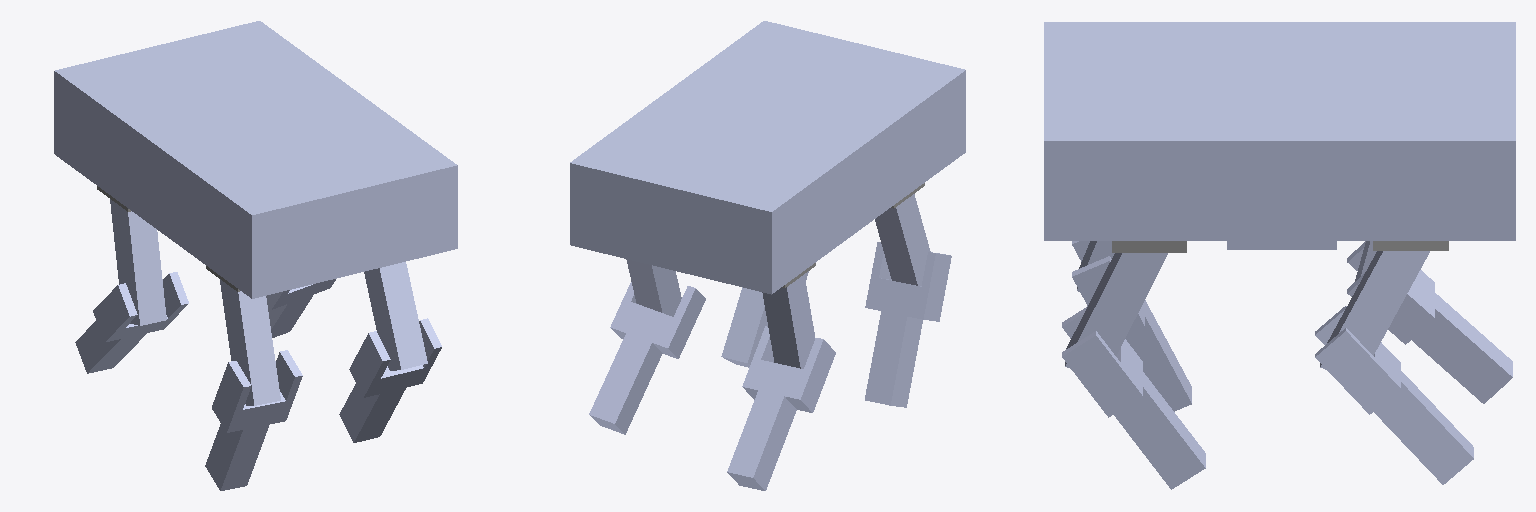
robot.urdf — robodog_urdf_visual:
<?xml version="1.0" encoding="utf-8"?>
<robot name="robodog_urdf_visual">
  <link name="Body">
    <inertial>
      <origin xyz="0.656324638994413 -1.42809506690289 0.974685271162886" rpy="0 0 0" />
      <mass value="2.47443646087766" />
      <inertia ixx="0.0338051194285346" ixy="-9.98080509313333E-08" ixz="-3.26646966906258E-08"
               iyy="0.0188656734512259" iyz="-8.88031110999782E-05" izz="0.0514575753888566" />
    </inertial>
    <visual>
      <origin xyz="0 0 0" rpy="0 0 0" />
      <geometry><mesh filename="meshes/Body.STL" /></geometry>
      <material name=""><color rgba="0.796078431372549 0.823529411764706 0.937254901960784 1" /></material>
    </visual>
    <collision>
      <origin xyz="0 0 0" rpy="0 0 0" />
      <geometry><mesh filename="meshes/Body.STL" /></geometry>
    </collision>
  </link>

  <link name="LFshoulder">
    <inertial>
      <origin xyz="0.00681169722908104 0.00125033685953124 -0.0529994500001849" rpy="0 0 0" />
      <mass value="0.106734606341006" />
      <inertia ixx="5.17890853646485E-05" ixy="2.95186281800034E-06" ixz="-2.76364828743488E-06"
               iyy="3.88830335380834E-05" iyz="-2.55784140201913E-06" izz="4.69737140895314E-05" />
    </inertial>
    <visual>
      <origin xyz="0 0 0" rpy="0 0 0" />
      <geometry><mesh filename="meshes/LFshoulder.STL" /></geometry>
      <material name=""><color rgba="0.627450980392157 0.627450980392157 0.627450980392157 1" /></material>
    </visual>
    <collision>
      <origin xyz="0 0 0" rpy="0 0 0" />
      <geometry><mesh filename="meshes/LFshoulder.STL" /></geometry>
    </collision>
  </link>

  <joint name="LFshoulder1" type="revolute">
    <origin xyz="0.570945900830936 -1.35287827187371 0.934826982453758" rpy="1.5707963267949 0.0196982875803658 0" />
    <parent link="Body" />
    <child link="LFshoulder" />
    <axis xyz="0 0 1" />
    <!-- FIX 1: symmetric limits -->
    <limit lower="-1.57" upper="1.57" effort="100" velocity="2" />
  </joint>

  <link name="LFthigh">
    <inertial>
      <origin xyz="0.0254299226832908 -0.0560253459175278 -0.00159464940336007" rpy="0 0 0" />
      <mass value="0.142585062370825" />
      <inertia ixx="0.00032131875229863" ixy="-2.41938494626875E-06" ixz="-5.00179516698194E-08"
               iyy="3.38957629072241E-05" iyz="-7.67389200474168E-06" izz="0.000316306044817151" />
    </inertial>
    <visual>
      <origin xyz="0 0 0" rpy="0 0 0" />
      <geometry><mesh filename="meshes/LFthigh.STL" /></geometry>
      <material name=""><color rgba="0.792156862745098 0.819607843137255 0.933333333333333 1" /></material>
    </visual>
    <collision>
      <origin xyz="0 0 0" rpy="0 0 0" />
      <geometry><mesh filename="meshes/LFthigh.STL" /></geometry>
    </collision>
  </link>

  <joint name="LFshoulder" type="revolute">
    <origin xyz="-0.0301327356696895 -0.027433002683567 -0.054419879145494" rpy="-0.299813417529854 0 0" />
    <parent link="LFshoulder" />
    <child link="LFthigh" />
    <axis xyz="1 0 0" />
    <!-- FIX 1: symmetric limits -->
    <limit lower="-1.57" upper="1.57" effort="100" velocity="2" />
  </joint>

  <link name="LFcalf">
    <inertial>
      <origin xyz="0.0377851499737359 -0.0771360287758094 1.70801450760649E-09" rpy="0 0 0" />
      <mass value="0.220129873044525" />
      <inertia ixx="0.000500333417247401" ixy="-2.71815321277086E-06" ixz="-3.59989002583078E-21"
               iyy="5.59989224180159E-05" iyz="9.84252284709497E-19" izz="0.000499436637090327" />
    </inertial>
    <visual>
      <origin xyz="0 0 0" rpy="0 0 0" />
      <geometry><mesh filename="meshes/LFcalf.STL" /></geometry>
      <material name=""><color rgba="0.792156862745098 0.819607843137255 0.933333333333333 1" /></material>
    </visual>
    <collision>
      <origin xyz="0 0 0" rpy="0 0 0" />
      <geometry><mesh filename="meshes/LFcalf.STL" /></geometry>
    </collision>
  </link>

  <joint name="LFknee" type="revolute">
    <origin xyz="-0.00980170853731022 -0.134770482280563 -0.00414664095535988"
            rpy="1.09162844050236 -0.0122810329987683 0.0063804086168105" />
    <parent link="LFthigh" />
    <child link="LFcalf" />
    <axis xyz="0.999904235859026 -0.0138390430007545 0" />
    <!-- FIX 1: symmetric limits -->
    <limit lower="0" upper="1.57" effort="100" velocity="2" />
  </joint>

  <!-- ==================== LR LEG ==================== -->

  <link name="LRshoulder">
    <inertial>
      <origin xyz="0.00697922831782827 0.00120544876893769 -0.0530044716500169" rpy="0 0 0" />
      <mass value="0.107113260088673" />
      <inertia ixx="5.18183845782671E-05" ixy="2.90746990008399E-06" ixz="-2.76364856021151E-06"
               iyy="3.90281777796418E-05" iyz="-2.5578413861735E-06" izz="4.71229135190175E-05" />
    </inertial>
    <visual>
      <origin xyz="0 0 0" rpy="0 0 0" />
      <geometry><mesh filename="meshes/LRshoulder.STL" /></geometry>
      <material name=""><color rgba="0.627450980392157 0.627450980392157 0.627450980392157 1" /></material>
    </visual>
    <collision>
      <origin xyz="0 0 0" rpy="0 0 0" />
      <geometry><mesh filename="meshes/LRshoulder.STL" /></geometry>
    </collision>
  </link>

  <joint name="LRshoulder1" type="revolute">
    <origin xyz="0.570945900830937 -1.60267827187371 0.935026982453744" rpy="1.5707963267949 0.0400174430414714 0" />
    <parent link="Body" />
    <child link="LRshoulder" />
    <axis xyz="0 0 1" />
    <!-- FIX 1: symmetric limits -->
    <limit lower="-1.57" upper="1.57" effort="100" velocity="2" />
  </joint>

  <link name="LRthigh">
    <inertial>
      <origin xyz="0.025448577797899 -0.0560272165605814 0.00117650081112397" rpy="0 0 0" />
      <mass value="0.142585062512309" />
      <inertia ixx="0.000321320133122269" ixy="-2.30677332961993E-06" ixz="1.52827116373056E-08"
               iyy="3.39181273948411E-05" iyz="8.1075016562492E-06" izz="0.000316282299953722" />
    </inertial>
    <visual>
      <origin xyz="0 0 0" rpy="0 0 0" />
      <geometry><mesh filename="meshes/LRthigh.STL" /></geometry>
      <material name=""><color rgba="0.792156862745098 0.819607843137255 0.933333333333333 1" /></material>
    </visual>
    <collision>
      <origin xyz="0 0 0" rpy="0 0 0" />
      <geometry><mesh filename="meshes/LRthigh.STL" /></geometry>
    </collision>
  </link>

  <joint name="LRshoulder" type="revolute">
    <origin xyz="-0.0301327356696457 -0.0274330026834846 -0.0544198791454946"
            rpy="-0.35188052704573 -0.012952543057539 0.00475550062410753" />
    <parent link="LRshoulder" />
    <child link="LRthigh" />
    <axis xyz="0.999904810563637 0 -0.0137974567111755" />
    <!-- FIX 1: symmetric limits -->
    <limit lower="-1.57" upper="1.57" effort="100" velocity="2" />
  </joint>

  <link name="LRcalf">
    <inertial>
      <origin xyz="0.0360577557209741 -0.0779584626053882 4.08413969310573E-10" rpy="0 0 0" />
      <mass value="0.220129873044525" />
      <inertia ixx="0.000499991946951532" ixy="-1.26094720880383E-05" ixz="3.19754937588498E-20"
               iyy="5.63403927138841E-05" iyz="2.23616698075135E-19" izz="0.000499436637090327" />
    </inertial>
    <visual>
      <origin xyz="0 0 0" rpy="0 0 0" />
      <geometry><mesh filename="meshes/LRcalf.STL" /></geometry>
      <material name=""><color rgba="0.792156862745098 0.819607843137255 0.933333333333333 1" /></material>
    </visual>
    <collision>
      <origin xyz="0 0 0" rpy="0 0 0" />
      <geometry><mesh filename="meshes/LRcalf.STL" /></geometry>
    </collision>
  </link>

  <joint name="LRknee" type="revolute">
    <origin xyz="-0.00975435685953308 -0.134792281203354 0.003499209275174"
            rpy="0.797443610135705 -0.0120453146509253 0.0252265315134874" />
    <parent link="LRthigh" />
    <child link="LRcalf" />
    <axis xyz="0.999347964148459 -0.0361060459248811 0" />
    <!-- FIX 1: symmetric limits -->
    <limit lower="0" upper="1.57" effort="100" velocity="2" />
  </joint>

  <!-- ==================== RF LEG ==================== -->

  <link name="RFshoulder">
    <inertial>
      <origin xyz="-0.0069792232149215 0.00120545927671156 -0.0530044835151915" rpy="0 0 0" />
      <mass value="0.107113316590436" />
      <inertia ixx="5.18183962454629E-05" ixy="-2.90747124297496E-06" ixz="2.76365354538931E-06"
               iyy="3.90281899527752E-05" iyz="-2.5578377303906E-06" izz="4.71229170668772E-05" />
    </inertial>
    <visual>
      <origin xyz="0 0 0" rpy="0 0 0" />
      <geometry><mesh filename="meshes/RFshoulder.STL" /></geometry>
      <material name=""><color rgba="0.627450980392157 0.627450980392157 0.627450980392157 1" /></material>
    </visual>
    <collision>
      <origin xyz="0 0 0" rpy="0 0 0" />
      <geometry><mesh filename="meshes/RFshoulder.STL" /></geometry>
    </collision>
  </link>

  <joint name="RFshoulder1" type="revolute">
    <origin xyz="0.741284184425223 -1.35287827187371 0.935826981513804" rpy="1.5707963267949 -0.116458893368777 0" />
    <parent link="Body" />
    <child link="RFshoulder" />
    <axis xyz="0 0 1" />
    <!-- FIX 1: symmetric limits -->
    <limit lower="-1.57" upper="1.57" effort="100" velocity="2" />
  </joint>

  <link name="RFthigh">
    <inertial>
      <origin xyz="-0.0254299225488506 -0.0560253487071269 -0.00159464974084234" rpy="0 0 0" />
      <mass value="0.14258506807021" />
      <inertia ixx="0.000321318786317582" ixy="2.41938856259475E-06" ixz="5.0018727702744E-08"
               iyy="3.38957611151945E-05" iyz="-7.67389491245136E-06" izz="0.000316306080101547" />
    </inertial>
    <visual>
      <origin xyz="0 0 0" rpy="0 0 0" />
      <geometry><mesh filename="meshes/RFthigh.STL" /></geometry>
      <material name=""><color rgba="0.792156862745098 0.819607843137255 0.933333333333333 1" /></material>
    </visual>
    <collision>
      <origin xyz="0 0 0" rpy="0 0 0" />
      <geometry><mesh filename="meshes/RFthigh.STL" /></geometry>
    </collision>
  </link>

  <joint name="RFshoulder" type="revolute">
    <origin xyz="0.0301327362857767 -0.0274330018035406 -0.0544198791458379" rpy="-0.532538206681912 0 0" />
    <parent link="RFshoulder" />
    <child link="RFthigh" />
    <!-- FIX 3: axis matches LF/LR (was -1 0 0) -->
    <axis xyz="1 0 0" />
    <!-- FIX 1: symmetric limits -->
    <limit lower="-1.57" upper="1.57" effort="100" velocity="2" />
  </joint>

  <link name="RFcalf">
    <inertial>
      <origin xyz="0.0456389236696949 -0.072926852139616 5.40545386229496E-12" rpy="0 0 0" />
      <mass value="0.220129873044526" />
      <inertia ixx="0.000497582548247098" ixy="3.4958933968641E-05" ixz="3.72694496791892E-20"
               iyy="5.87497914183215E-05" iyz="-2.35475159336695E-19" izz="0.00049943663709033" />
    </inertial>
    <visual>
      <origin xyz="0 0 0" rpy="0 0 0" />
      <geometry><mesh filename="meshes/RFcalf.STL" /></geometry>
      <material name=""><color rgba="0.792156862745098 0.819607843137255 0.933333333333333 1" /></material>
    </visual>
    <collision>
      <origin xyz="0 0 0" rpy="0 0 0" />
      <geometry><mesh filename="meshes/RFcalf.STL" /></geometry>
    </collision>
  </link>

  <joint name="RFknee" type="revolute">
    <origin xyz="-0.0688982914538071 -0.135741088974873 -0.00470154873322026"
            rpy="1.2644864677079 0.0827040505719773 -0.0261205230150006" />
    <parent link="RFthigh" />
    <child link="RFcalf" />
    <axis xyz="0.996242013440497 0.0866132244869372 0" />
    <!-- FIX 1: symmetric limits -->
    <limit lower="0" upper="1.57" effort="100" velocity="2" />
  </joint>

  <!-- ==================== RR LEG ==================== -->

  <link name="RRshoulder">
    <inertial>
      <origin xyz="-0.00697921190467143 0.00120482955155443 -0.0530044835509087" rpy="0 0 0" />
      <mass value="0.107113316314874" />
      <inertia ixx="5.18183961988968E-05" ixy="-2.9074713425353E-06" ixz="2.76365331101969E-06"
               iyy="3.90281896411856E-05" iyz="-2.55783770855946E-06" izz="4.71229166596488E-05" />
    </inertial>
    <visual>
      <origin xyz="0 0 0" rpy="0 0 0" />
      <geometry><mesh filename="meshes/RRshoulder.STL" /></geometry>
      <material name=""><color rgba="0.627450980392157 0.627450980392157 0.627450980392157 1" /></material>
    </visual>
    <collision>
      <origin xyz="0 0 0" rpy="0 0 0" />
      <geometry><mesh filename="meshes/RRshoulder.STL" /></geometry>
    </collision>
  </link>

  <joint name="RRshoulder1" type="revolute">
    <origin xyz="0.741284184940541 -1.60267827187374 0.935826982453767" rpy="1.5707963267949 -0.0019797424334105 0" />
    <parent link="Body" />
    <child link="RRshoulder" />
    <axis xyz="0 0 1" />
    <!-- FIX 1: symmetric limits -->
    <limit lower="-1.57" upper="1.57" effort="100" velocity="2" />
  </joint>

  <link name="RRthigh">
    <inertial>
      <origin xyz="-0.0254299227848083 -0.0560253474323369 -0.0015946498201842" rpy="0 0 0" />
      <mass value="0.142585067571199" />
      <inertia ixx="0.000321318785253325" ixy="2.41938748456796E-06" ixz="5.00187418284509E-08"
               iyy="3.38957605966384E-05" iyz="-7.67389502238405E-06" izz="0.000316306078517343" />
    </inertial>
    <visual>
      <origin xyz="0 0 0" rpy="0 0 0" />
      <geometry><mesh filename="meshes/RRthigh.STL" /></geometry>
      <material name=""><color rgba="0.792156862745098 0.819607843137255 0.933333333333333 1" /></material>
    </visual>
    <collision>
      <origin xyz="0 0 0" rpy="0 0 0" />
      <geometry><mesh filename="meshes/RRthigh.STL" /></geometry>
    </collision>
  </link>

  <joint name="RRshoulder" type="revolute">
    <origin xyz="0.0301327477149707 -0.0274336317901348 -0.0544198793939654" rpy="-0.487004042275192 0 0" />
    <parent link="RRshoulder" />
    <child link="RRthigh" />
    <!-- FIX 3: axis matches LF/LR (was -1 0 0) -->
    <axis xyz="1 0 0" />
    <!-- FIX 1: symmetric limits -->
    <limit lower="-1.57" upper="1.57" effort="100" velocity="2" />
  </joint>

  <link name="RRcalf">
    <inertial>
      <origin xyz="0.0392753470832037 -0.076542042229081 1.01296748766799E-12" rpy="0 0 0" />
      <mass value="0.220129873044525" />
      <inertia ixx="0.000500333518865319" ixy="-2.70983477952626E-06" ixz="-1.20172799391704E-20"
               iyy="5.59988208000997E-05" iyz="6.43745039913268E-20" izz="0.000499436637090329" />
    </inertial>
    <visual>
      <origin xyz="0 0 0" rpy="0 0 0" />
      <geometry><mesh filename="meshes/RRcalf.STL" /></geometry>
      <material name=""><color rgba="0.792156862745098 0.819607843137255 0.933333333333333 1" /></material>
    </visual>
    <collision>
      <origin xyz="0 0 0" rpy="0 0 0" />
      <geometry><mesh filename="meshes/RRcalf.STL" /></geometry>
    </collision>
  </link>

  <joint name="RRknee" type="revolute">
    <origin xyz="-0.0688982915173117 -0.135741089101065 -0.00470154847425786"
            rpy="1.09576138654391 0.00144427473534236 -0.000742813636079913" />
    <parent link="RRthigh" />
    <child link="RRcalf" />
    <!-- FIX 2: axis matches others (was -0.999998681 -0.00162 0) -->
    <axis xyz="0.999998681146719 0.00162410123492629 0" />
    <!-- FIX 1: symmetric limits -->
    <limit lower="0" upper="1.57" effort="100" velocity="2" />
  </joint>

  <!-- Dummy foot links -->
  <link name="LFfoot"/>
  <link name="LRfoot"/>
  <link name="RFfoot"/>
  <link name="RRfoot"/>

  <joint name="LFankle" type="fixed">
    <parent link="LFcalf"/>
    <child link="LFfoot"/>
    <origin xyz="0.04 -0.15 0" rpy="0 0 0"/>
  </joint>

  <joint name="LRankle" type="fixed">
    <parent link="LRcalf"/>
    <child link="LRfoot"/>
    <origin xyz="0.04 -0.15 0" rpy="0 0 0"/>
  </joint>

  <joint name="RFankle" type="fixed">
    <parent link="RFcalf"/>
    <child link="RFfoot"/>
    <origin xyz="0.04 -0.15 0" rpy="0 0 0"/>
  </joint>

  <joint name="RRankle" type="fixed">
    <parent link="RRcalf"/>
    <child link="RRfoot"/>
    <origin xyz="0.04 -0.15 0" rpy="0 0 0"/>
  </joint>

</robot>

--- What the picture shows (computed from the rendered views, not written in the file) ---
The picture shows the robot from 3 angles, left to right: view 1: azimuth 30°, elevation 25°; view 2: azimuth 150°, elevation 25°; view 3: azimuth 270°, elevation 25°; orthographic projection.
Robot: robodog_urdf_visual — 17 links, 16 joints (12 revolute, 4 fixed); root link Body; default pose: all joints at 0.
Visible links, largest first — view 1: Body, LRcalf, RRcalf, LFcalf, LRthigh, LFthigh, RRthigh, RFcalf; view 2: Body, LFcalf, LRcalf, RFcalf, LFthigh, LRthigh, RRcalf, RFthigh; view 3: Body, RFcalf, RRcalf, LFcalf, RRthigh, RFthigh, LRcalf, RRshoulder, RFshoulder, LRthigh.
Link boxes in pixels (<box>): Body: <box>54,21,457,298</box>; LRcalf: <box>205,350,302,490</box>; RRcalf: <box>339,318,441,442</box>; LFcalf: <box>75,272,188,373</box>; LRthigh: <box>220,279,280,405</box>; LFthigh: <box>110,199,166,325</box>; RRthigh: <box>364,262,427,370</box>; RFcalf: <box>266,279,335,337</box>; Body: <box>570,21,965,294</box>; LFcalf: <box>727,326,835,490</box>; LRcalf: <box>865,242,951,407</box>; RFcalf: <box>589,282,705,434</box>; LFthigh: <box>762,274,814,368</box>; LRthigh: <box>875,194,930,285</box>; RRcalf: <box>721,271,808,367</box>; RFthigh: <box>626,259,681,316</box>; Body: <box>1044,22,1515,249</box>; RFcalf: <box>1315,306,1473,484</box>; RRcalf: <box>1062,306,1205,489</box>; LFcalf: <box>1347,241,1512,403</box>; RRthigh: <box>1065,253,1167,368</box>; RFthigh: <box>1320,251,1429,369</box>; LRcalf: <box>1072,241,1191,411</box>; RRshoulder: <box>1112,241,1186,252</box>; RFshoulder: <box>1373,241,1448,250</box>; LRthigh: <box>1077,241,1114,291</box>.
Bounding box of the posed robot: 0.2823 × 0.45 × 0.3947 m (x, y, z).
13 mesh visuals loaded from 13 distinct referenced files (13 binary STL).
